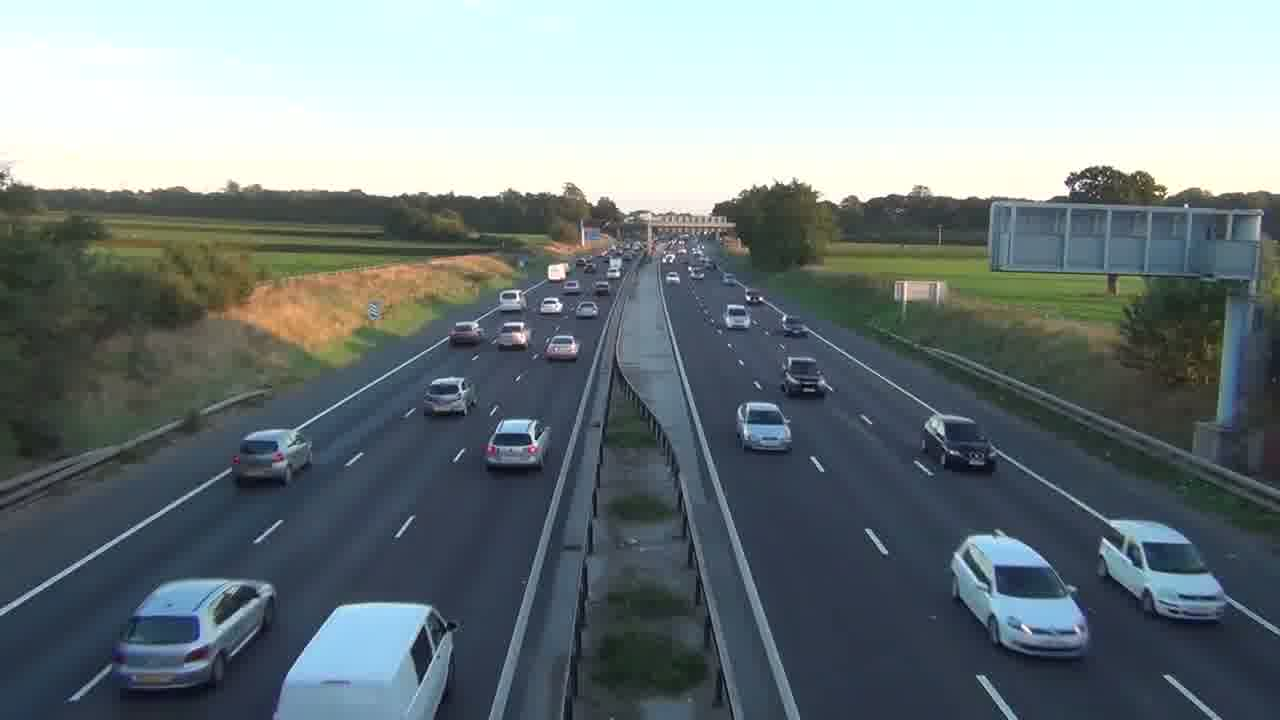car: (271, 600, 462, 717), (111, 576, 277, 694), (949, 529, 1091, 660), (1097, 517, 1226, 624), (230, 427, 312, 487), (921, 412, 996, 471), (484, 417, 550, 471), (735, 400, 793, 453), (422, 376, 475, 416), (544, 333, 580, 362), (448, 319, 482, 346)
